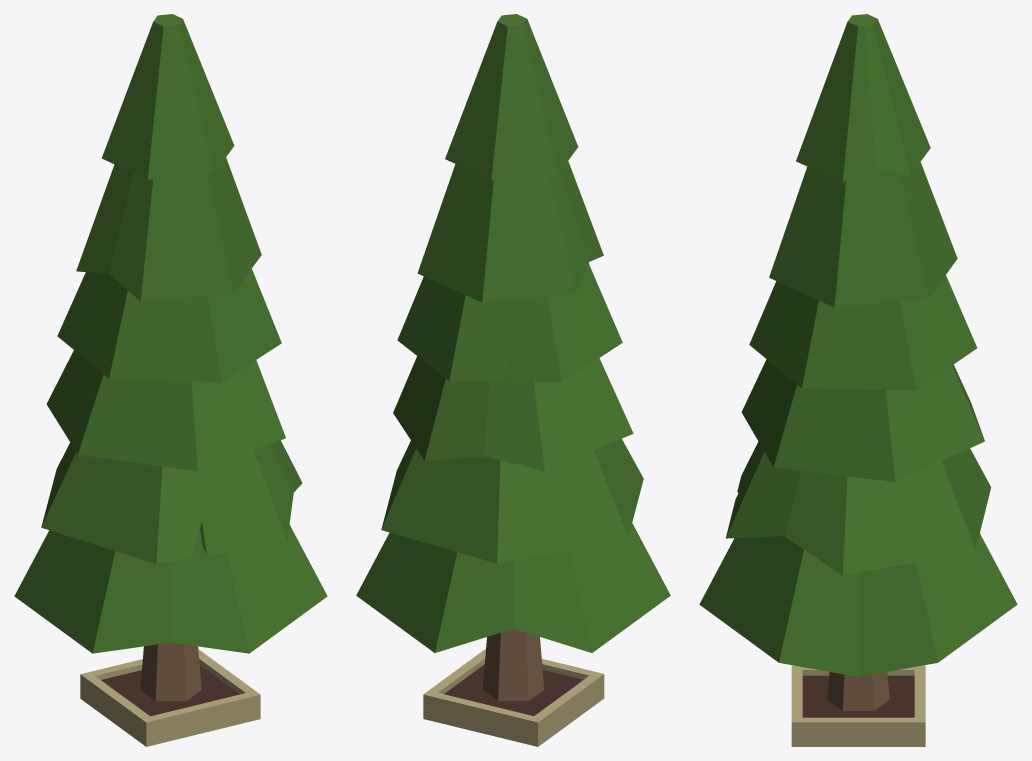
The model's file is Street Tree 5.fbx.
3 views of the same model, side by side, from view 1: azimuth 30°, elevation 25°; view 2: azimuth 150°, elevation 25°; view 3: azimuth 270°, elevation 25° (orthographic).
Parts seen in each view (by area): view 1: Street Tree 5; view 2: Street Tree 5; view 3: Street Tree 5.
Boxes of the visible parts, x1,y1,x2,y2 form: Street Tree 5: (14,14,327,746); Street Tree 5: (356,14,670,746); Street Tree 5: (699,14,1017,746).
Bounding box in the file's own units: 215 × 574 × 237.
Materials: 1 (1 with a texture image).
